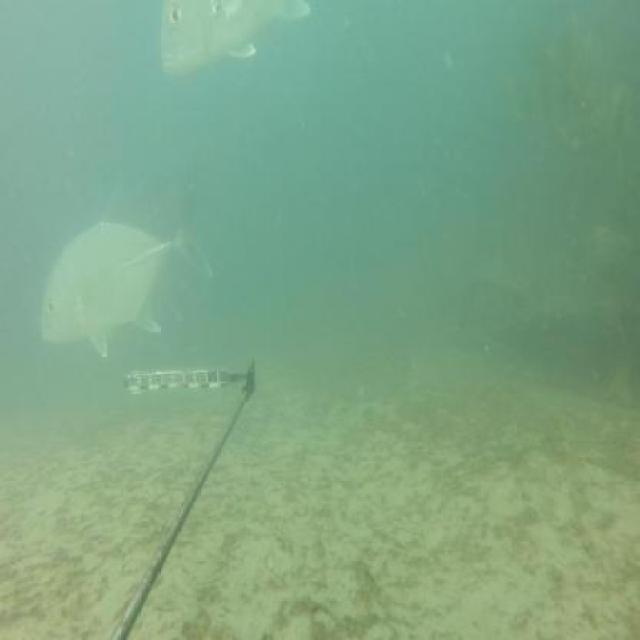Caranx: (39, 172, 216, 363), (155, 0, 316, 82)
